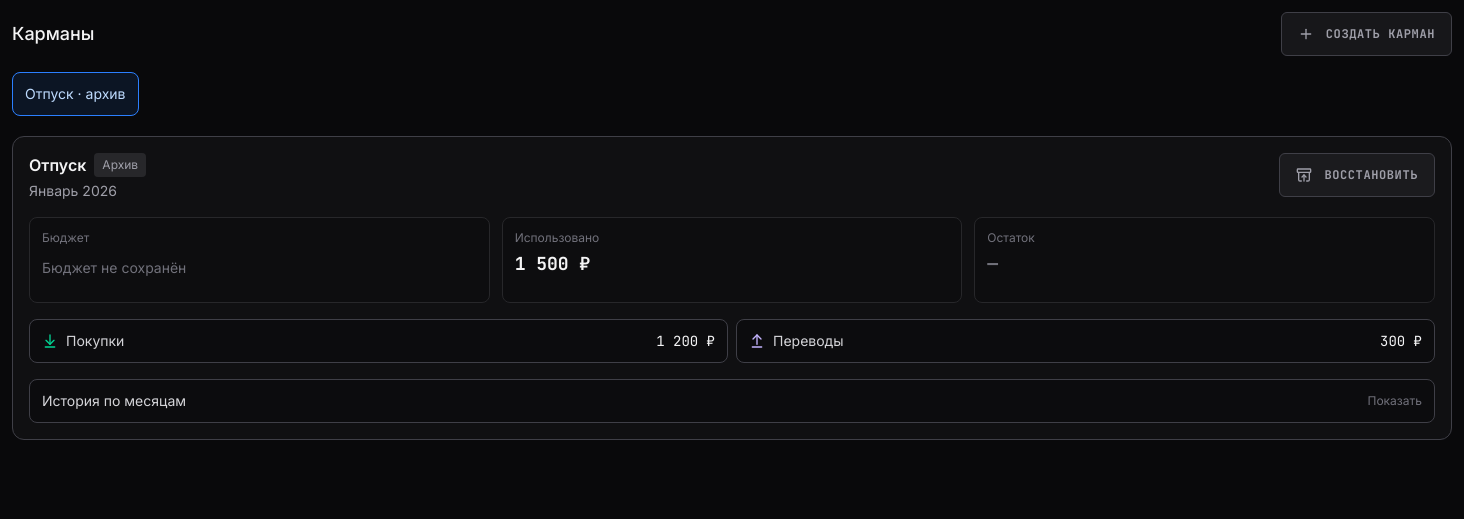
Test: PocketsSection › shows the history of an archived pocket read-only
Click the button "История по месяцам Показать": x=114, y=400 [29,379,1435,423]
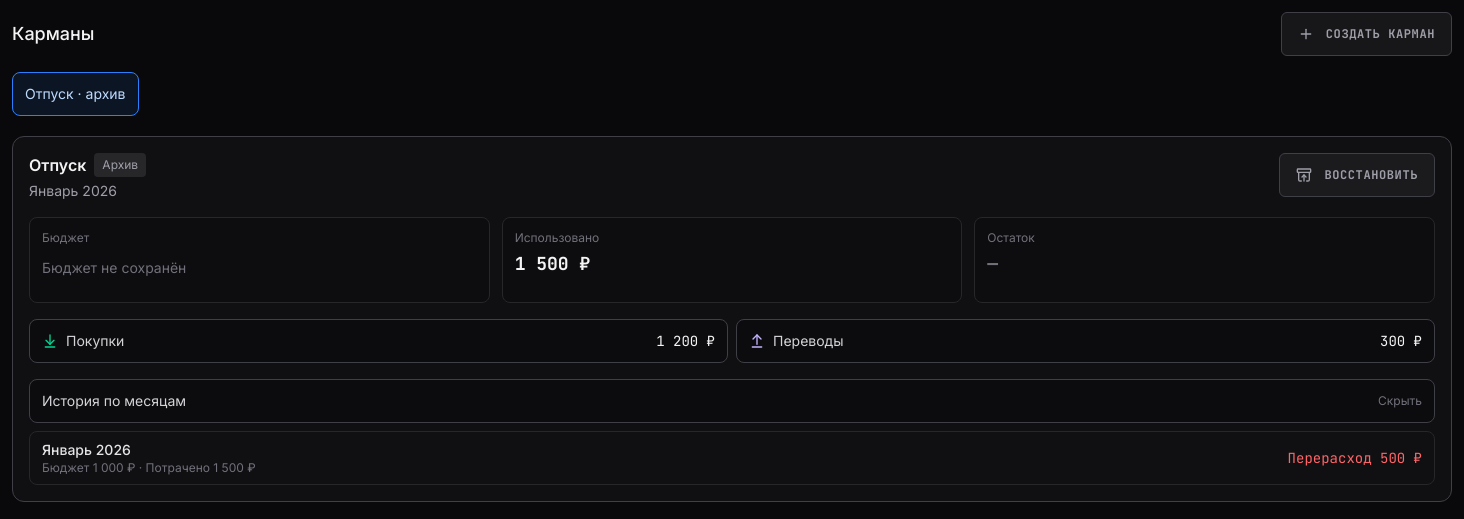
Now the text "Перерасход 500 ₽" is shown, box [1288,448,1422,468]
